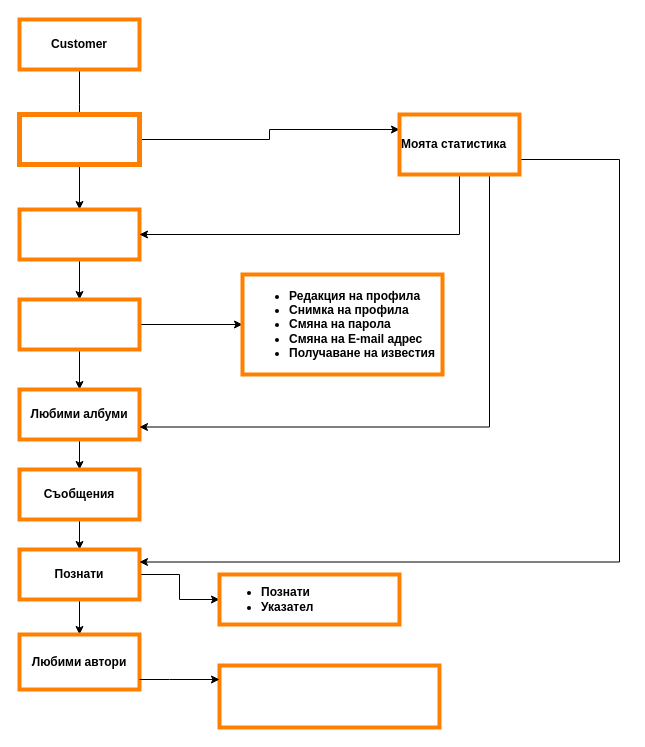
The diagram is 645 pixels wide and 747 high, and some of its shapes have lost their labels. The centre of each missing label's shape, as x and y in pixels:
Login: pixel 79 139
Албуми: pixel 79 234
Моите любими автори Кой ме е добавил в любими автори: pixel 329 696
Настройки: pixel 79 324
